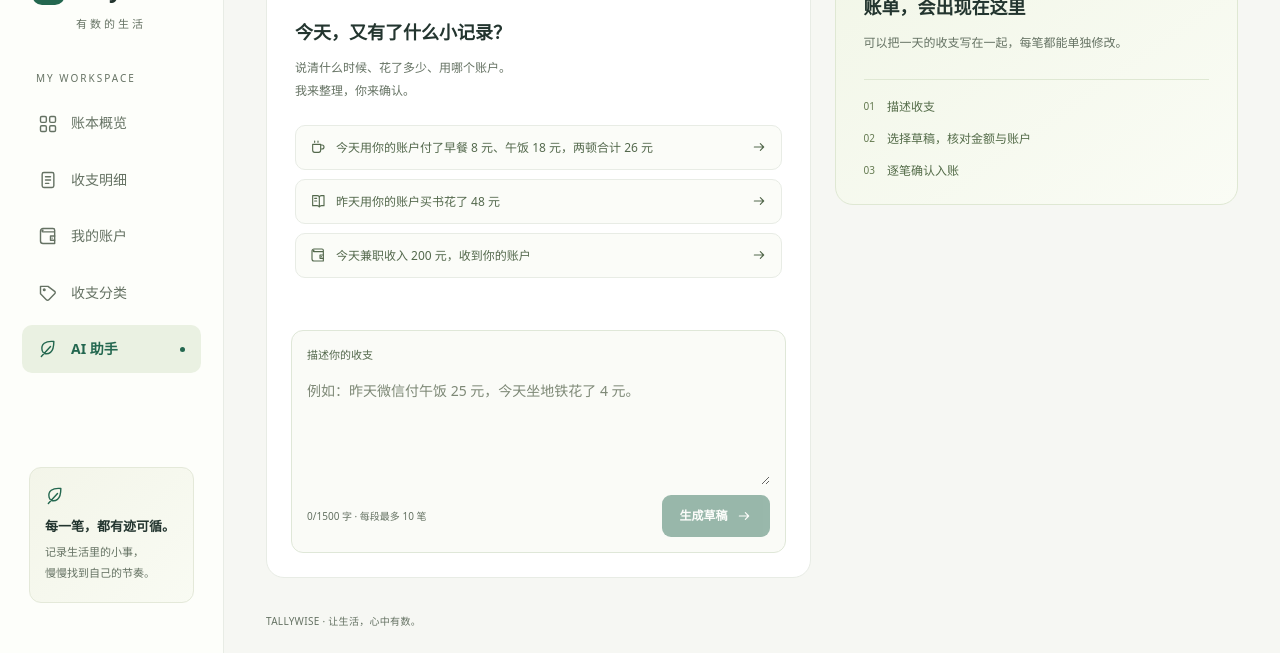
Test: AI 助手路由与入账流程 › 断网后重新进入页面，目录读取失败仍可用同一编号和内容重试
Later steps or results of the test are not shown.
(page scrolled)
Type "今天午饭 25 元，用现金" into the text box labelled "描述你的收支" at (538, 428), box [307,371,770,486]
(page scrolled)
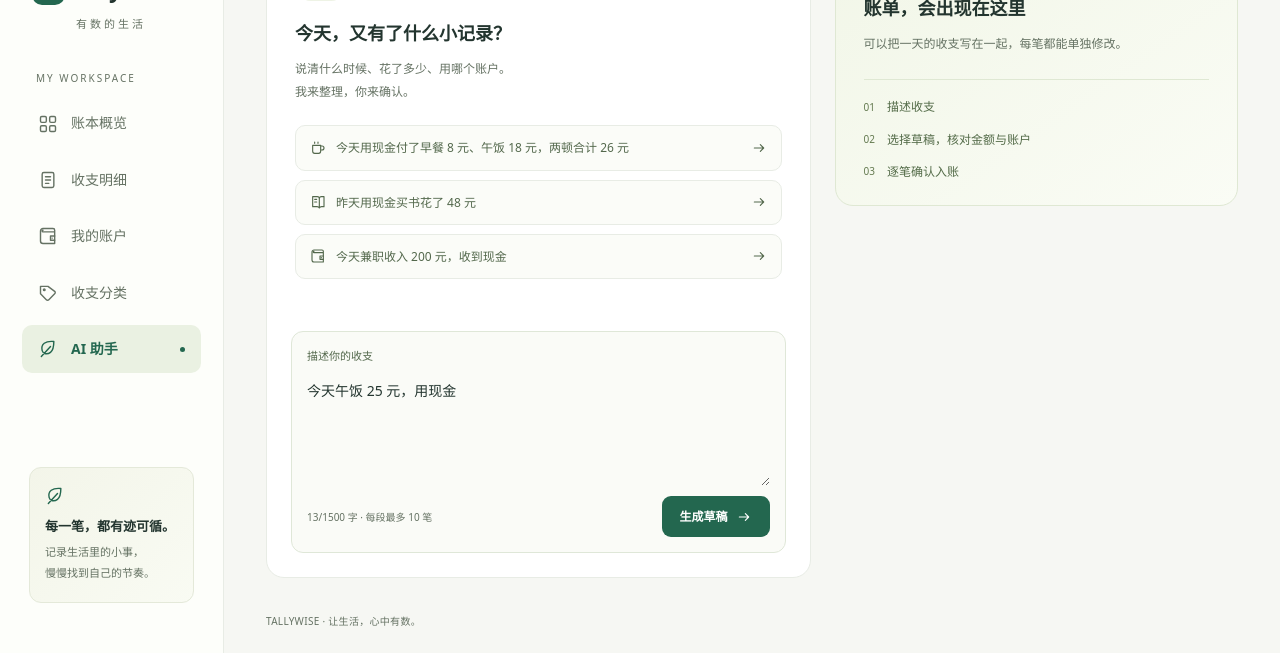
Check: the button "生成草稿" is enabled
Click the button "生成草稿" at (716, 517), box [662,496,770,537]
(page scrolled)
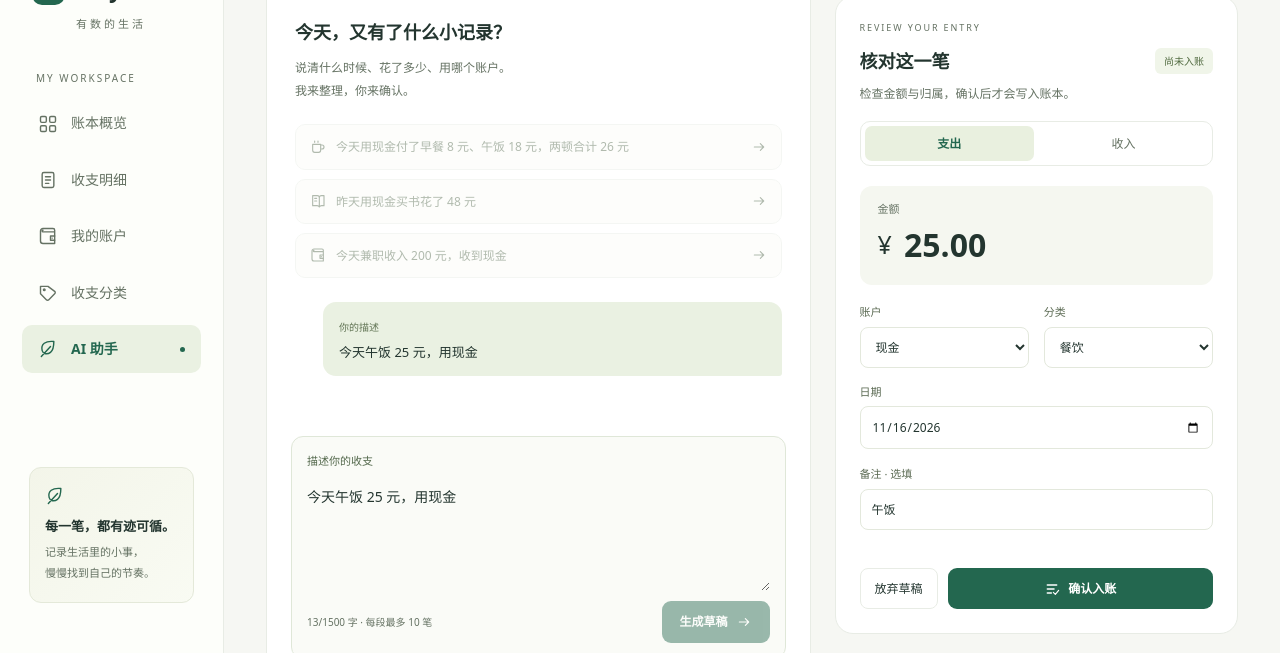
Click the button "确认入账" at (1080, 589), box [948,568,1213,609]
(page scrolled)
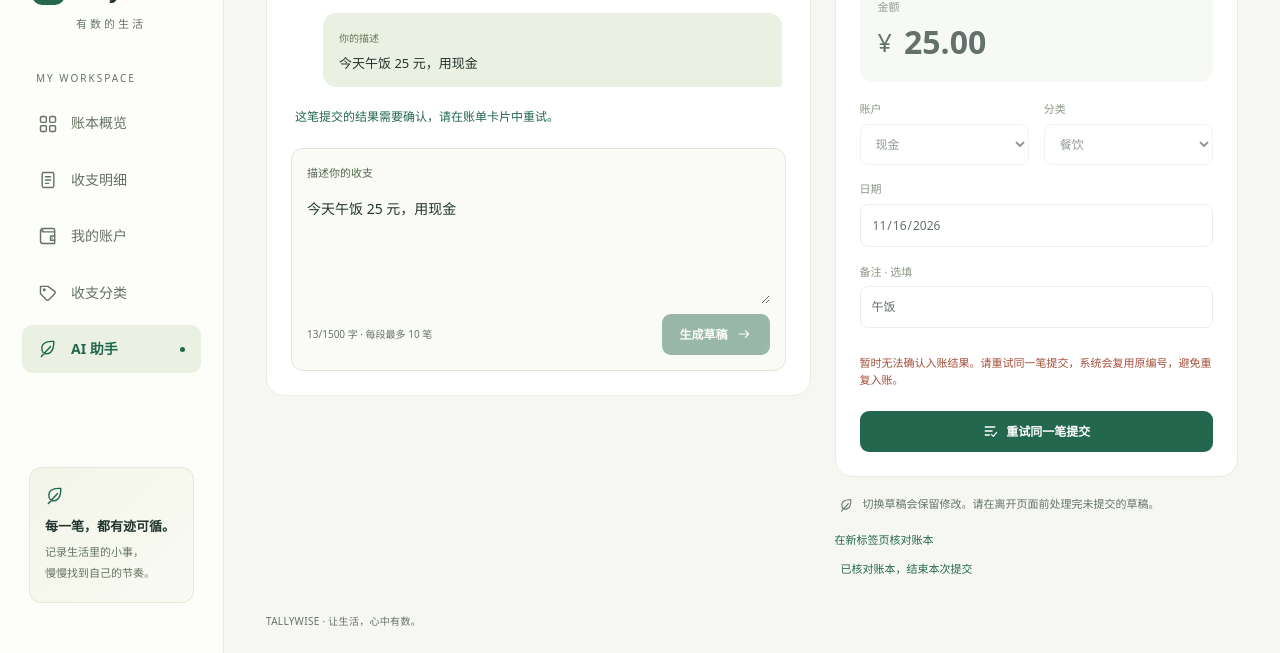
Check: the text "暂时无法确认入账结果。请重试同一笔提交，系统会复用原编号，避免重复入账。" is shown, box [860,354,1213,389]
